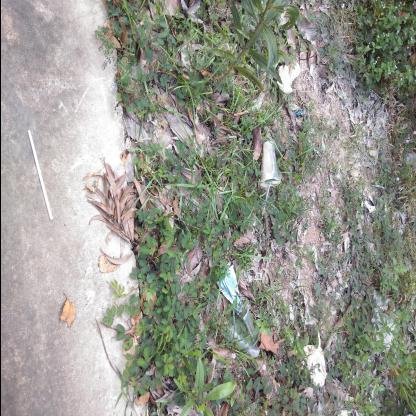plastik: (28, 131, 54, 221), (259, 142, 281, 220)
